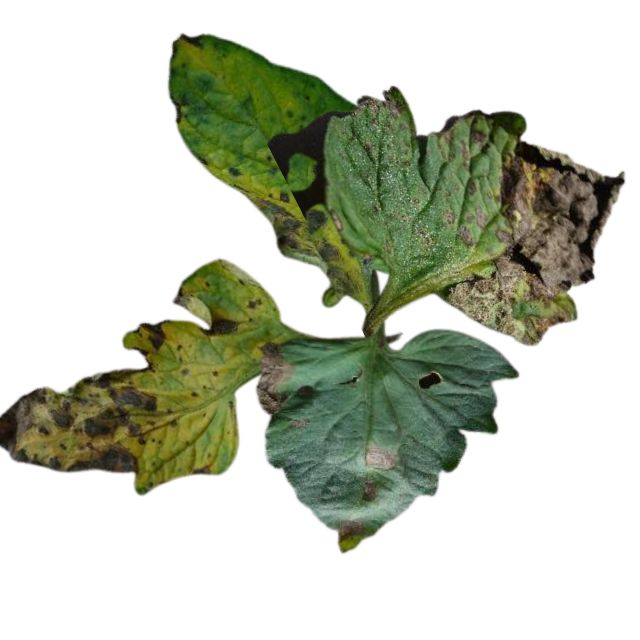Early_blight: (450, 141, 625, 350), (3, 364, 158, 474), (252, 196, 361, 297), (255, 340, 293, 415), (357, 86, 408, 123), (361, 440, 398, 472), (138, 321, 171, 352), (200, 315, 239, 338), (335, 517, 364, 543), (359, 476, 377, 504), (180, 30, 203, 48), (244, 292, 263, 308), (275, 189, 291, 203)
